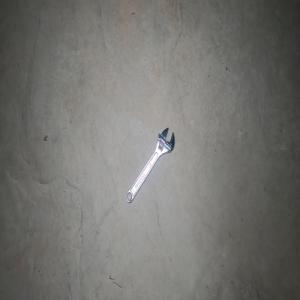Wrench: (126, 127, 174, 203)
